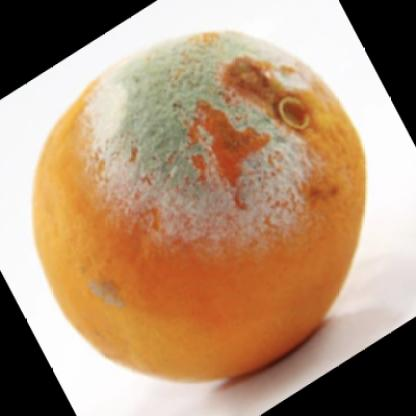rotten: (33, 31, 369, 381)
